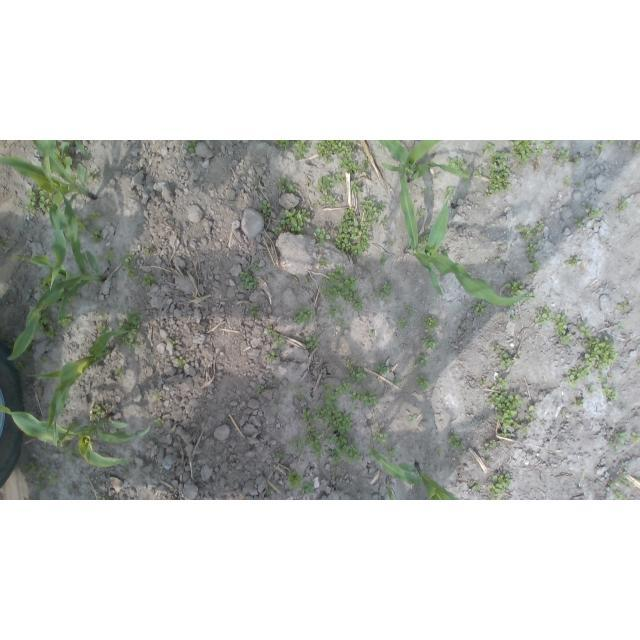Maize: (399, 168, 527, 306), (7, 187, 106, 361), (0, 140, 96, 288), (31, 328, 128, 448), (0, 404, 150, 469), (370, 448, 462, 500), (378, 140, 470, 182), (45, 140, 89, 156)
Weeds: (334, 207, 372, 257), (488, 391, 525, 429), (484, 152, 512, 197), (324, 430, 360, 465), (581, 336, 617, 371), (115, 308, 143, 348), (23, 180, 54, 215), (315, 405, 354, 432), (314, 140, 358, 162), (281, 207, 312, 235), (359, 197, 388, 225), (510, 141, 531, 172), (53, 141, 74, 172), (324, 381, 350, 406), (487, 473, 511, 500), (304, 427, 324, 458), (491, 345, 515, 370), (338, 275, 359, 302), (350, 389, 379, 407), (563, 365, 589, 385), (339, 158, 369, 175), (346, 358, 367, 382), (322, 264, 344, 285), (121, 251, 138, 277), (516, 226, 541, 243), (240, 267, 259, 289), (35, 466, 50, 492), (57, 309, 75, 330), (35, 310, 51, 333), (321, 283, 339, 303), (276, 176, 296, 194), (294, 306, 315, 323), (503, 281, 524, 298), (38, 275, 57, 293), (59, 289, 79, 306), (553, 313, 568, 335), (316, 176, 335, 193), (287, 469, 303, 489), (376, 280, 392, 300), (74, 215, 90, 235), (536, 306, 553, 324), (447, 155, 464, 173), (293, 140, 310, 158), (448, 433, 465, 450), (258, 200, 272, 220), (416, 374, 433, 390), (577, 320, 592, 338), (472, 299, 487, 317), (90, 227, 104, 246), (554, 148, 570, 164), (90, 404, 105, 421), (320, 192, 338, 206), (66, 448, 81, 464), (372, 430, 388, 445), (19, 460, 37, 473), (588, 204, 603, 219), (602, 387, 617, 402), (423, 332, 437, 348), (494, 377, 511, 390), (425, 316, 440, 330), (302, 409, 315, 425), (525, 244, 538, 260), (272, 332, 284, 349), (273, 141, 295, 150), (144, 273, 157, 288), (315, 228, 326, 245), (47, 326, 61, 339), (328, 304, 342, 317), (173, 356, 187, 369), (616, 431, 629, 445), (532, 141, 544, 156), (305, 336, 320, 348), (437, 243, 449, 258), (617, 199, 630, 212), (565, 256, 579, 268), (352, 298, 364, 312), (621, 471, 632, 486), (560, 332, 573, 344), (443, 187, 455, 200), (185, 140, 197, 153), (396, 316, 408, 329), (350, 181, 363, 193), (7, 335, 18, 349), (386, 447, 397, 461), (513, 423, 527, 434), (416, 356, 428, 368), (97, 323, 109, 335), (335, 173, 347, 185), (89, 211, 103, 221), (542, 140, 557, 149), (614, 491, 629, 500), (23, 344, 34, 356), (16, 362, 29, 372), (48, 472, 58, 485), (67, 420, 80, 430), (598, 371, 608, 384), (296, 437, 305, 451), (528, 405, 535, 423), (618, 301, 629, 312), (530, 261, 541, 272), (595, 142, 606, 153), (377, 364, 388, 375), (462, 168, 472, 180), (251, 304, 261, 316), (104, 251, 116, 261), (608, 479, 620, 489), (303, 484, 316, 493), (485, 141, 496, 151), (609, 440, 620, 450), (418, 235, 430, 244), (523, 292, 535, 301), (434, 447, 444, 457), (267, 353, 277, 363), (422, 187, 431, 198), (61, 441, 70, 452), (572, 399, 583, 408), (632, 431, 640, 443), (154, 418, 164, 427), (415, 208, 425, 217), (501, 429, 511, 438), (39, 356, 50, 364), (271, 452, 285, 458), (578, 220, 587, 229), (71, 172, 80, 181), (85, 172, 94, 181), (116, 368, 125, 377), (407, 306, 414, 317), (475, 168, 483, 177), (121, 468, 129, 477), (252, 263, 260, 272), (472, 482, 481, 490), (483, 440, 489, 452), (574, 154, 581, 164), (407, 414, 417, 421), (511, 316, 521, 323), (507, 302, 518, 308), (614, 323, 627, 328), (320, 258, 328, 266), (379, 255, 387, 263), (478, 377, 486, 385), (536, 222, 545, 229), (272, 227, 282, 233), (564, 178, 572, 185), (491, 440, 498, 448), (168, 338, 177, 344), (587, 387, 594, 394), (258, 385, 264, 393), (492, 259, 501, 264), (1, 240, 6, 249), (268, 326, 273, 335), (143, 247, 149, 254), (155, 393, 161, 400), (388, 239, 395, 245), (98, 496, 106, 501), (332, 472, 340, 477), (634, 143, 640, 149), (370, 330, 376, 336), (576, 182, 583, 187), (306, 280, 313, 285), (608, 140, 616, 144), (255, 173, 260, 179), (266, 489, 271, 495), (340, 321, 345, 326), (460, 327, 465, 332), (372, 417, 376, 423), (289, 388, 296, 391), (527, 272, 532, 276), (484, 460, 488, 465), (394, 380, 398, 384)
